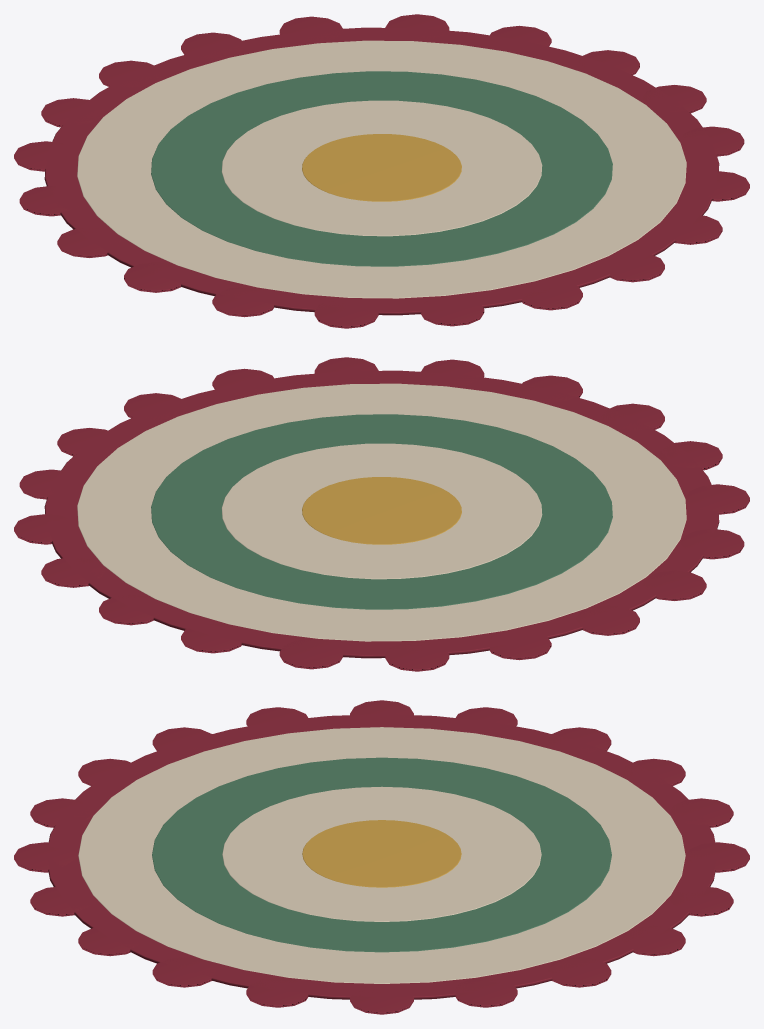
File: shop-rug.glb
3 views of the same model, one above another, from view 1: azimuth 30°, elevation 25°; view 2: azimuth 150°, elevation 25°; view 3: azimuth 270°, elevation 25° (orthographic).
Visible parts, largest first — view 1: shop-rug; view 2: shop-rug; view 3: shop-rug.
Boxes of the visible parts, x1,y1,x2,y2 form: shop-rug: (14, 14, 749, 328); shop-rug: (14, 357, 749, 671); shop-rug: (14, 700, 749, 1014).
Size of the model in its own units: 2.3 by 0.02 by 2.3.
